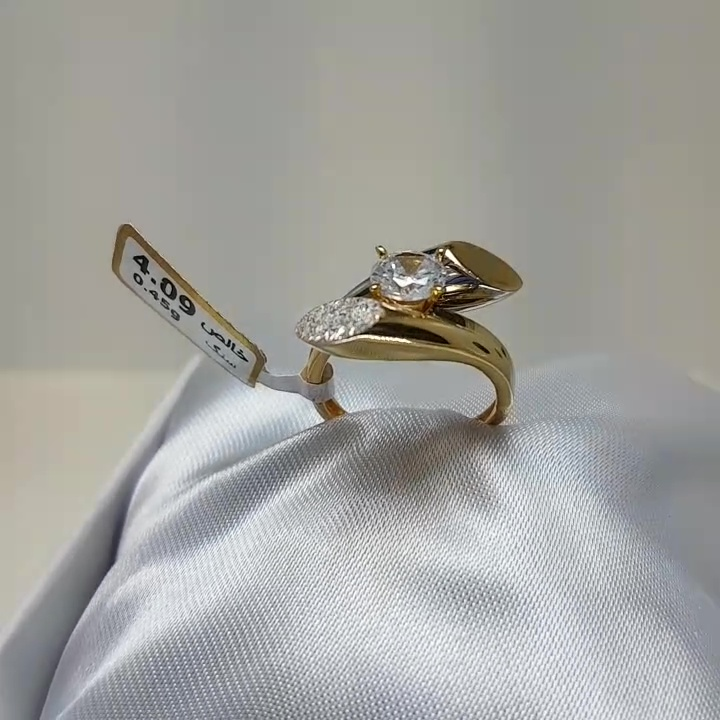Ring 7: (285, 217, 542, 445)
